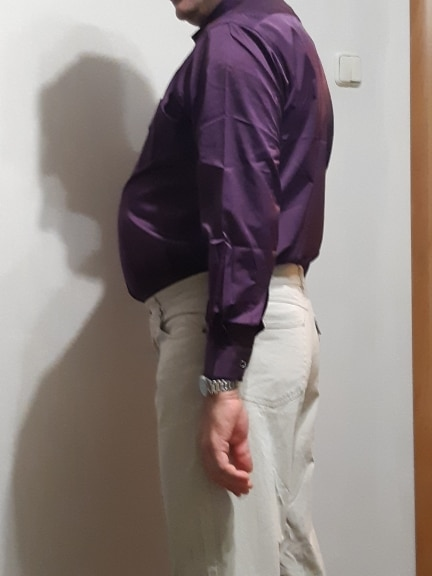shirts: (106, 11, 338, 309)
